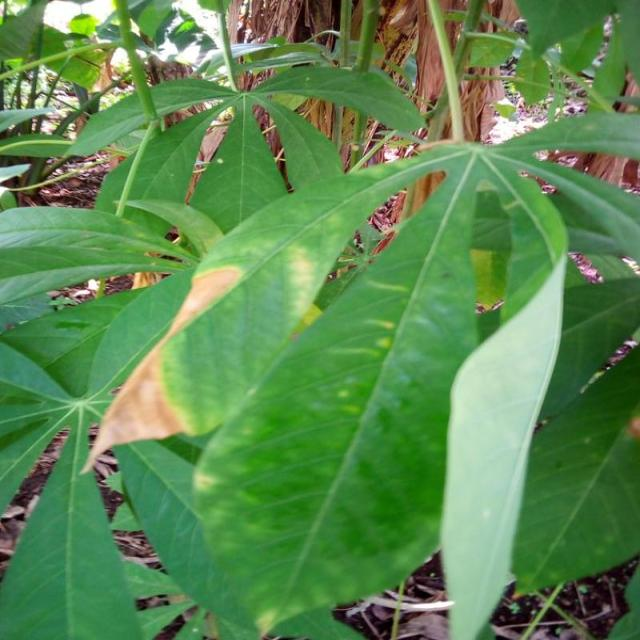cassava leaf: (1, 2, 638, 638), (188, 141, 570, 637)
